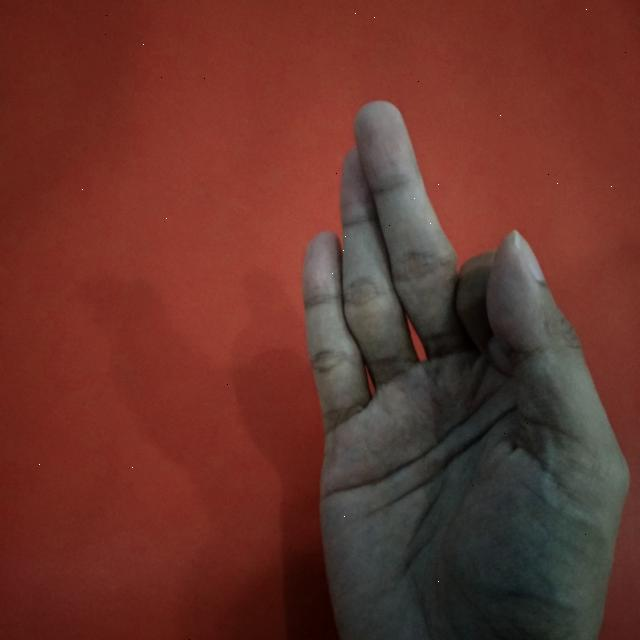F: (303, 100, 630, 640)
